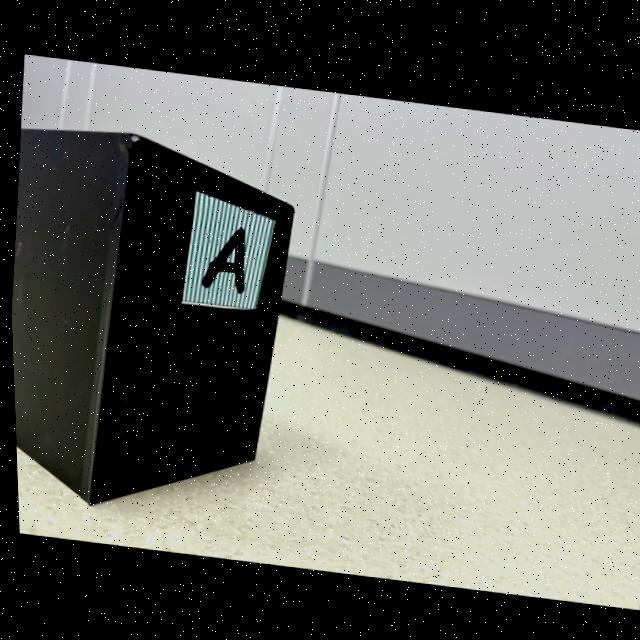A: (199, 226, 243, 290)
